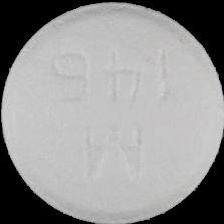55154-5517: (0, 0, 224, 224)
